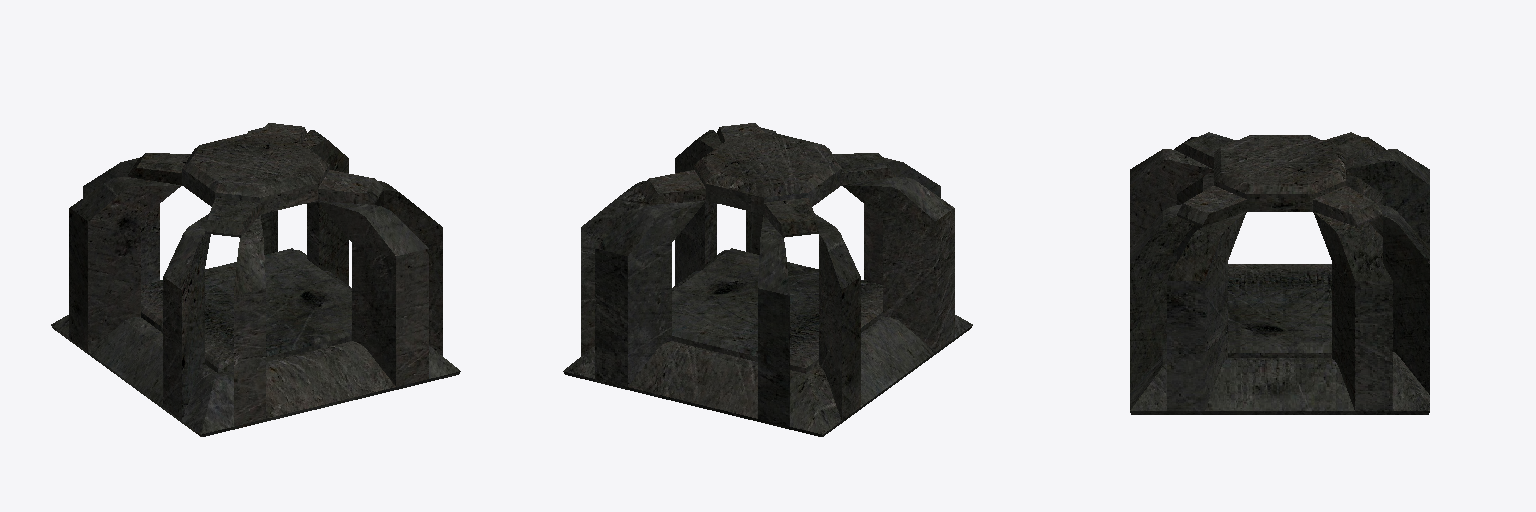
The picture shows the model from 3 angles: view 1: azimuth 30°, elevation 25°; view 2: azimuth 150°, elevation 25°; view 3: azimuth 270°, elevation 25°; orthographic projection.
Visible parts, largest first — view 1: Cube; view 2: Cube; view 3: Cube.
Part boxes in pixels (x1,y1,x2,y2): Cube: (51,123,460,436); Cube: (563,123,972,436); Cube: (1130,132,1429,414).
Size of the model in its own units: 6.61 by 4.65 by 6.61.
Materials: 1 (1 with a texture image).